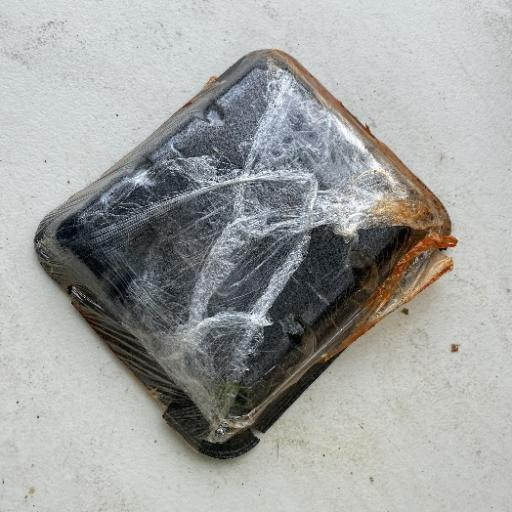Plastic: (32, 47, 458, 460)
